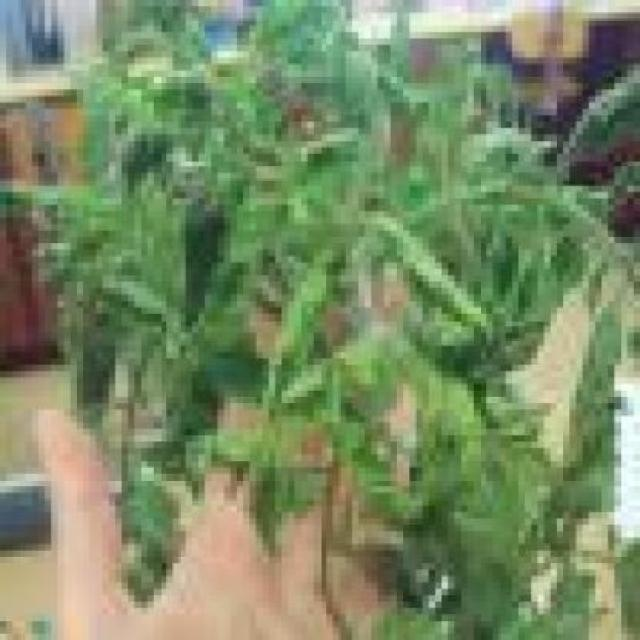Healthy Leaf: (360, 206, 487, 333), (264, 237, 347, 423), (315, 411, 404, 500), (207, 218, 264, 353), (544, 232, 596, 315), (372, 65, 436, 123)
